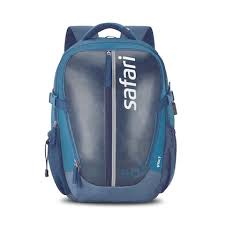backpack: (44, 22, 177, 203)
